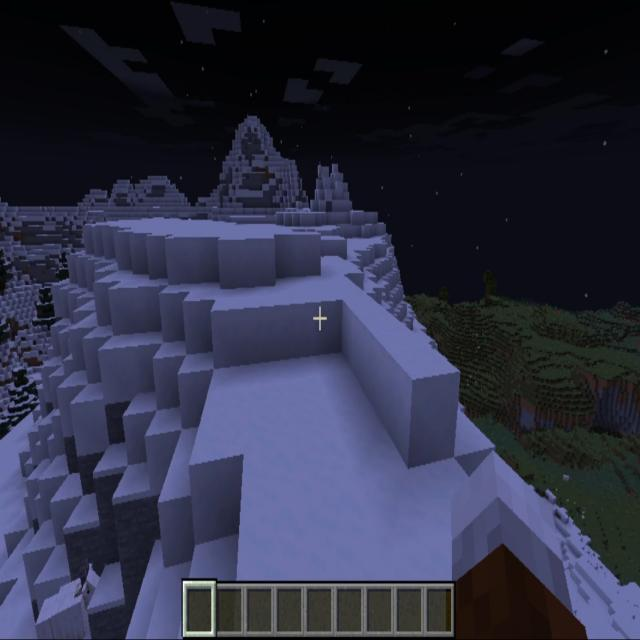Goat: (36, 550, 100, 639)
Sheep: (563, 472, 570, 484)
